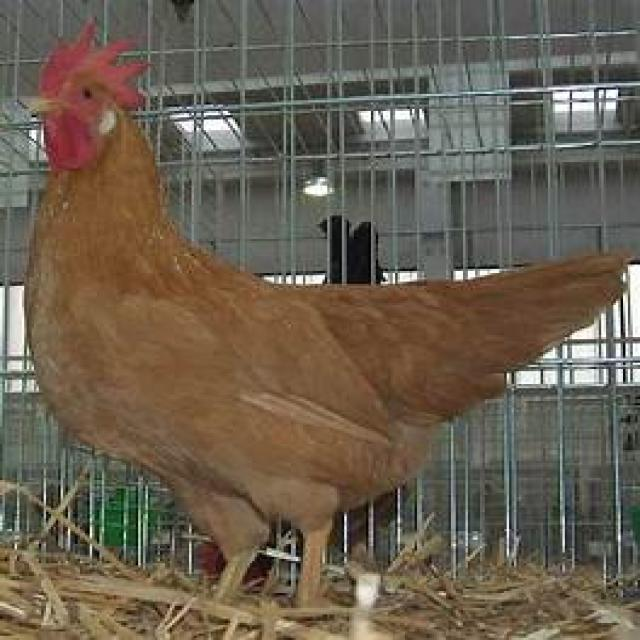hen: (24, 21, 633, 608)
